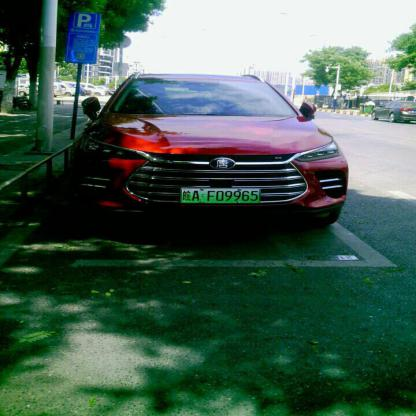lp: (181, 187, 260, 204)
